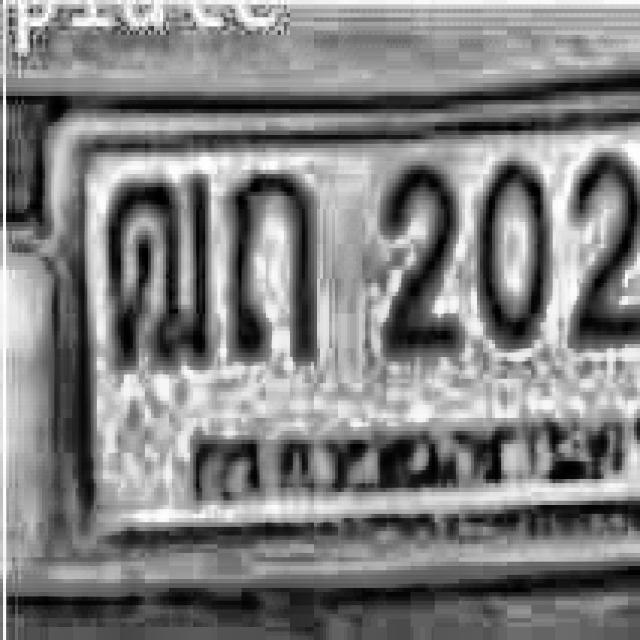license-plate: (31, 84, 640, 602)
